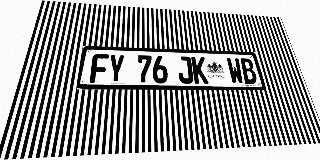6: (152, 55, 168, 83)
7: (136, 55, 152, 83)
B: (239, 58, 258, 84)
F: (89, 54, 109, 83)
J: (177, 56, 194, 83)
K: (191, 57, 209, 84)
W: (226, 58, 245, 84)
Y: (107, 54, 125, 83)
